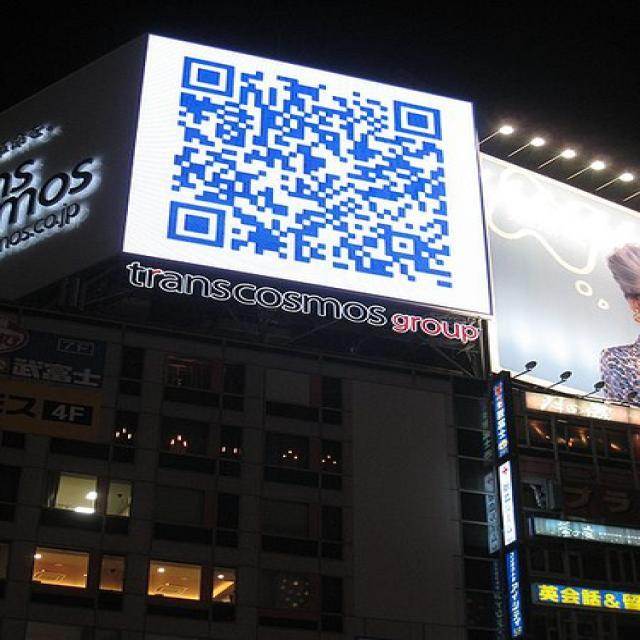qr-code: (167, 56, 451, 288)
